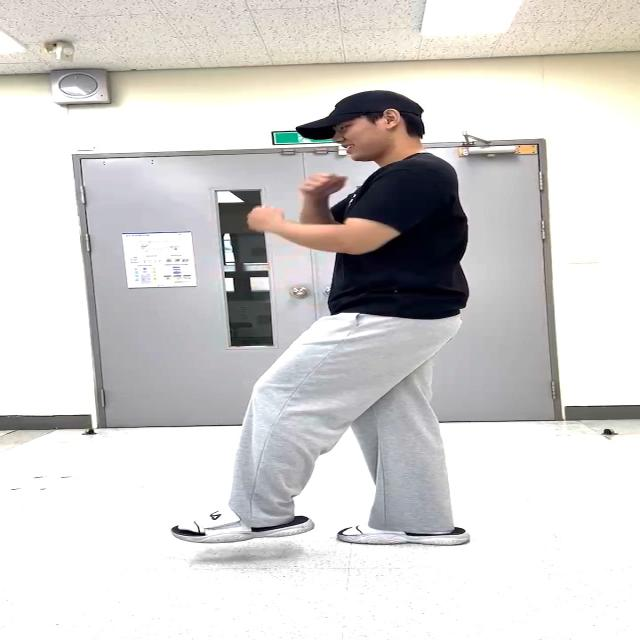leg: (192, 300, 372, 562)
